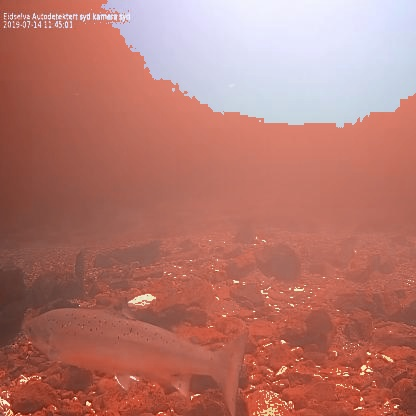salmon: (21, 294, 251, 416)
